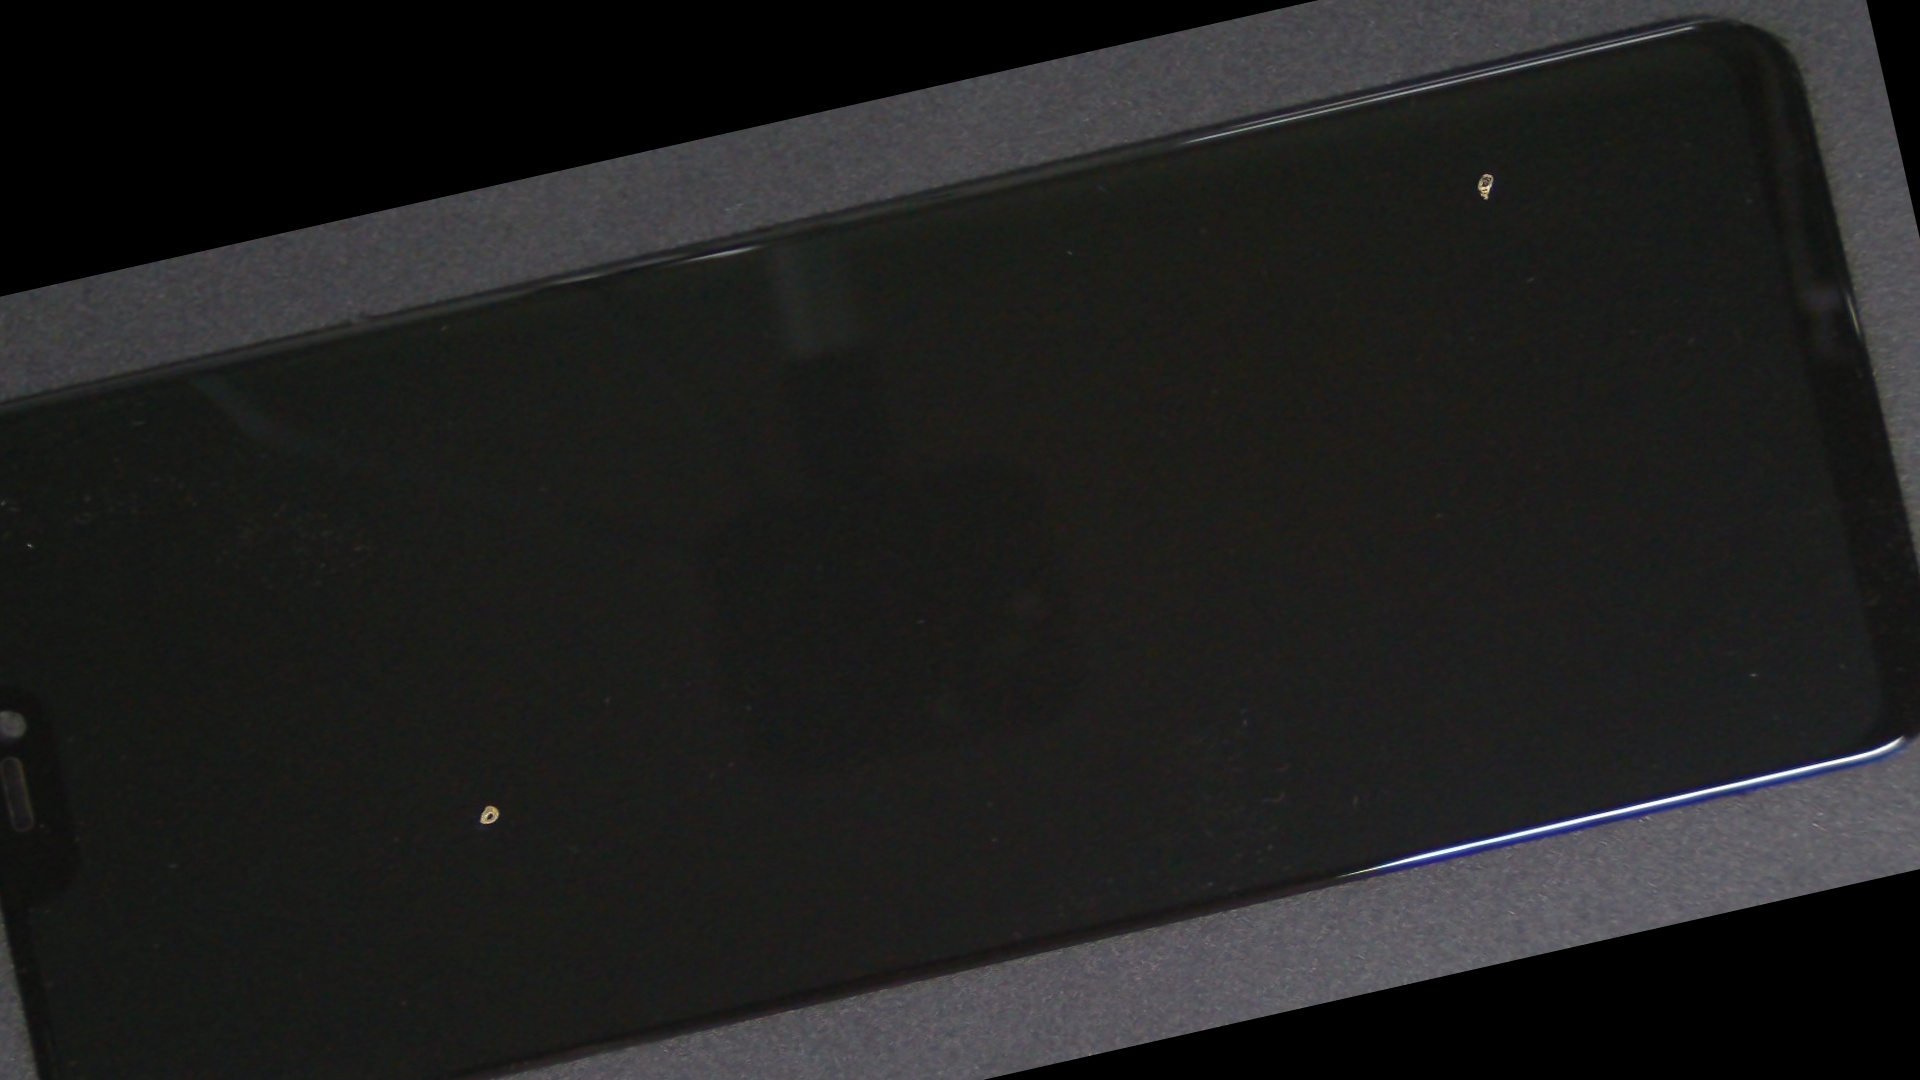oil: (640, 0, 1907, 458), (144, 444, 841, 1080)
